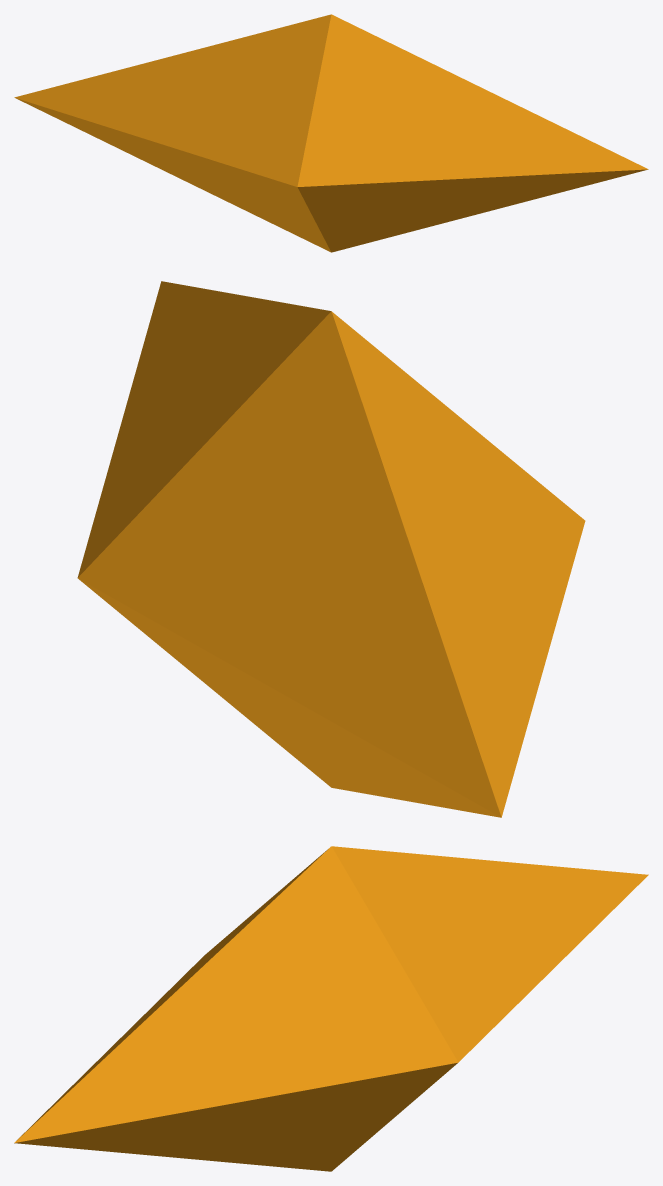
The model's file is crosshair.glb.
The picture shows the model from 3 angles, top to bottom: view 1: azimuth 30°, elevation 25°; view 2: azimuth 150°, elevation 25°; view 3: azimuth 270°, elevation 25°; orthographic projection. The views are drawn at different scales.
Parts seen in each view (by area): view 1: crosshair; view 2: crosshair; view 3: crosshair.
Part boxes in pixels (<box>): crosshair: <box>14,14,648,252</box>; crosshair: <box>77,281,585,817</box>; crosshair: <box>14,846,648,1171</box>.
Bounding box in the file's own units: 0.25 × 0.1414 × 0.25.
